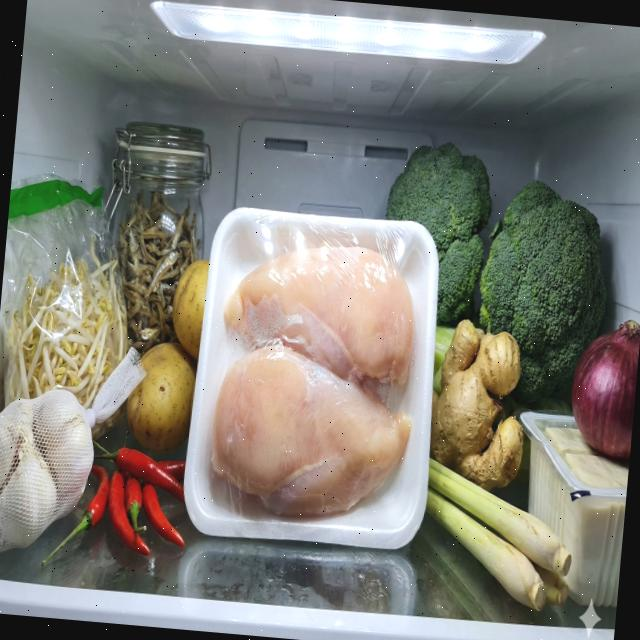anchovies: (106, 186, 208, 364)
bean_sprouts: (0, 229, 135, 417)
brocolli: (468, 174, 616, 412), (376, 138, 496, 328)
chicken: (204, 233, 426, 524)
chili: (44, 442, 200, 588)
garlic: (0, 383, 99, 562)
ginger: (421, 316, 533, 494)
lemongrass: (416, 458, 580, 612)
onion: (568, 319, 640, 464)
potato: (122, 252, 209, 458)
tofu: (541, 425, 631, 491)
